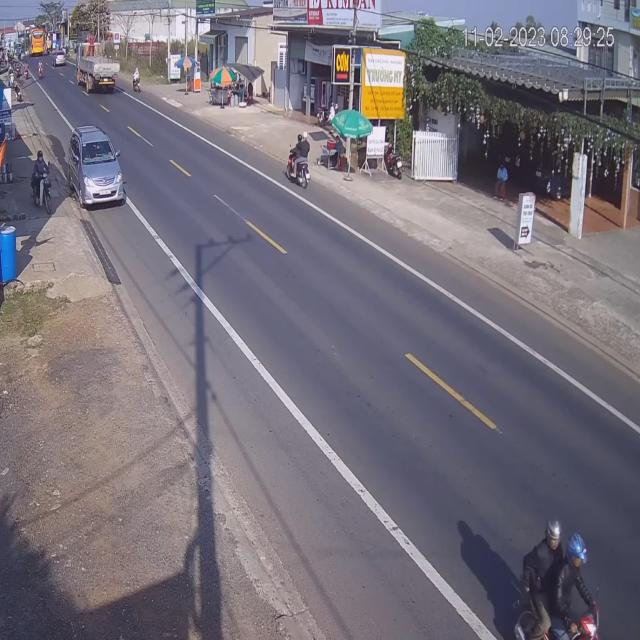bus: (30, 29, 46, 57)
car: (66, 125, 126, 209), (56, 51, 67, 68)
motorbike: (517, 517, 607, 638), (284, 132, 310, 190), (132, 66, 142, 93)
truck: (78, 39, 119, 94)
